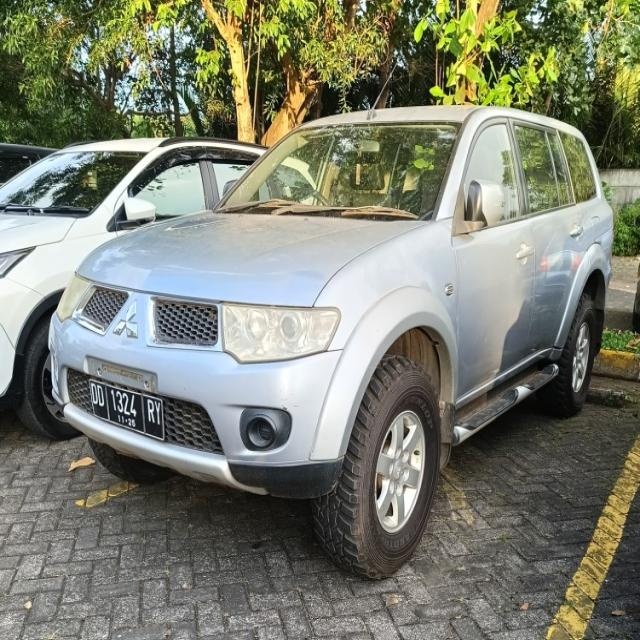plates: (90, 377, 162, 435)
